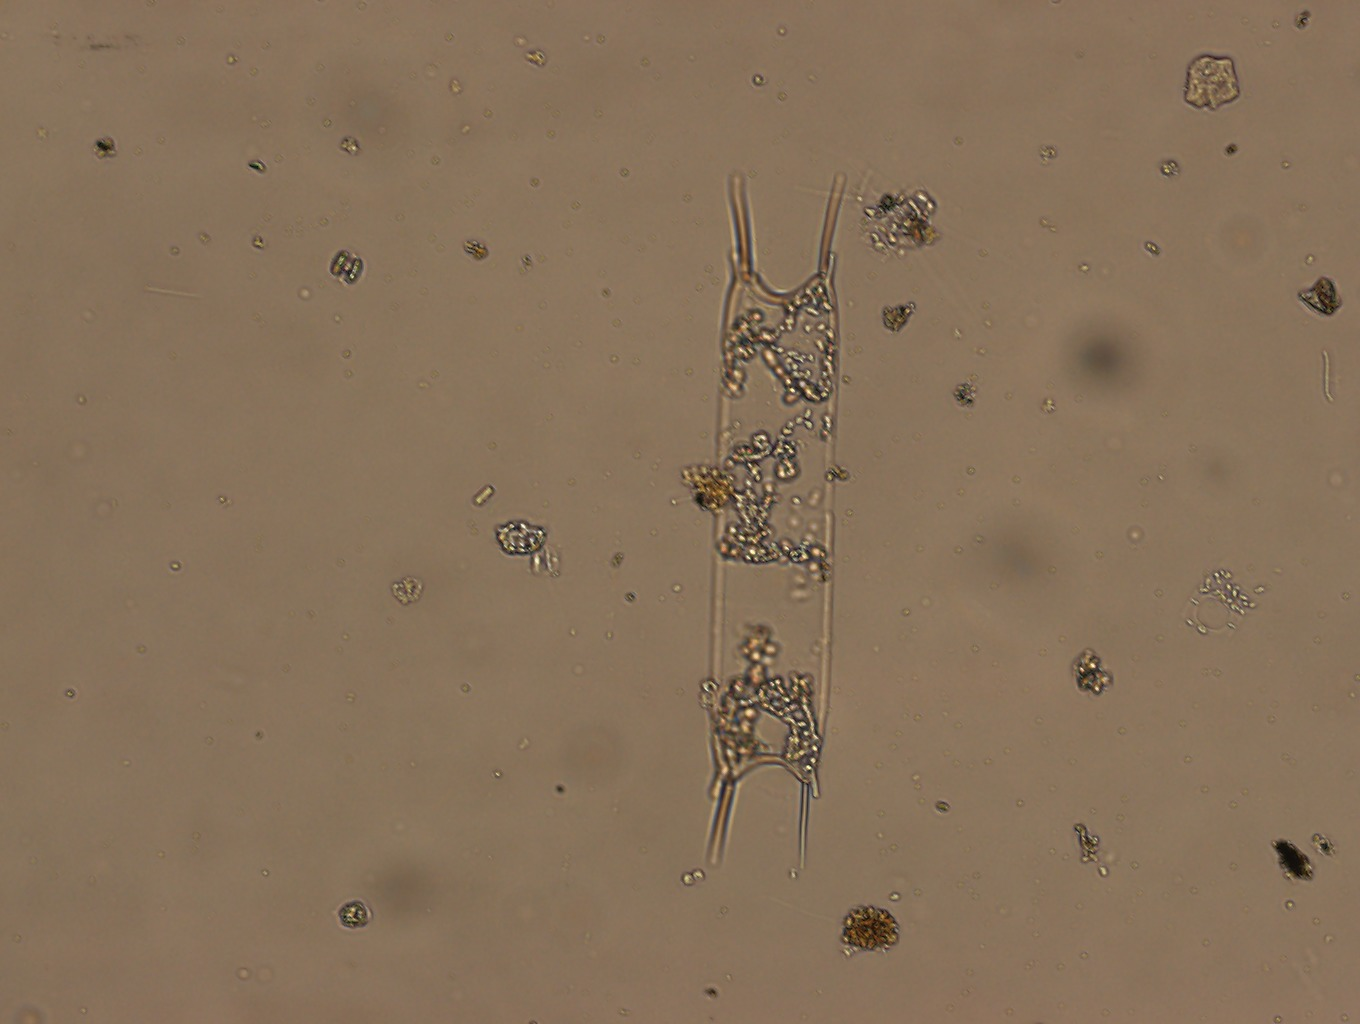biddulphia: (700, 170, 851, 868)
